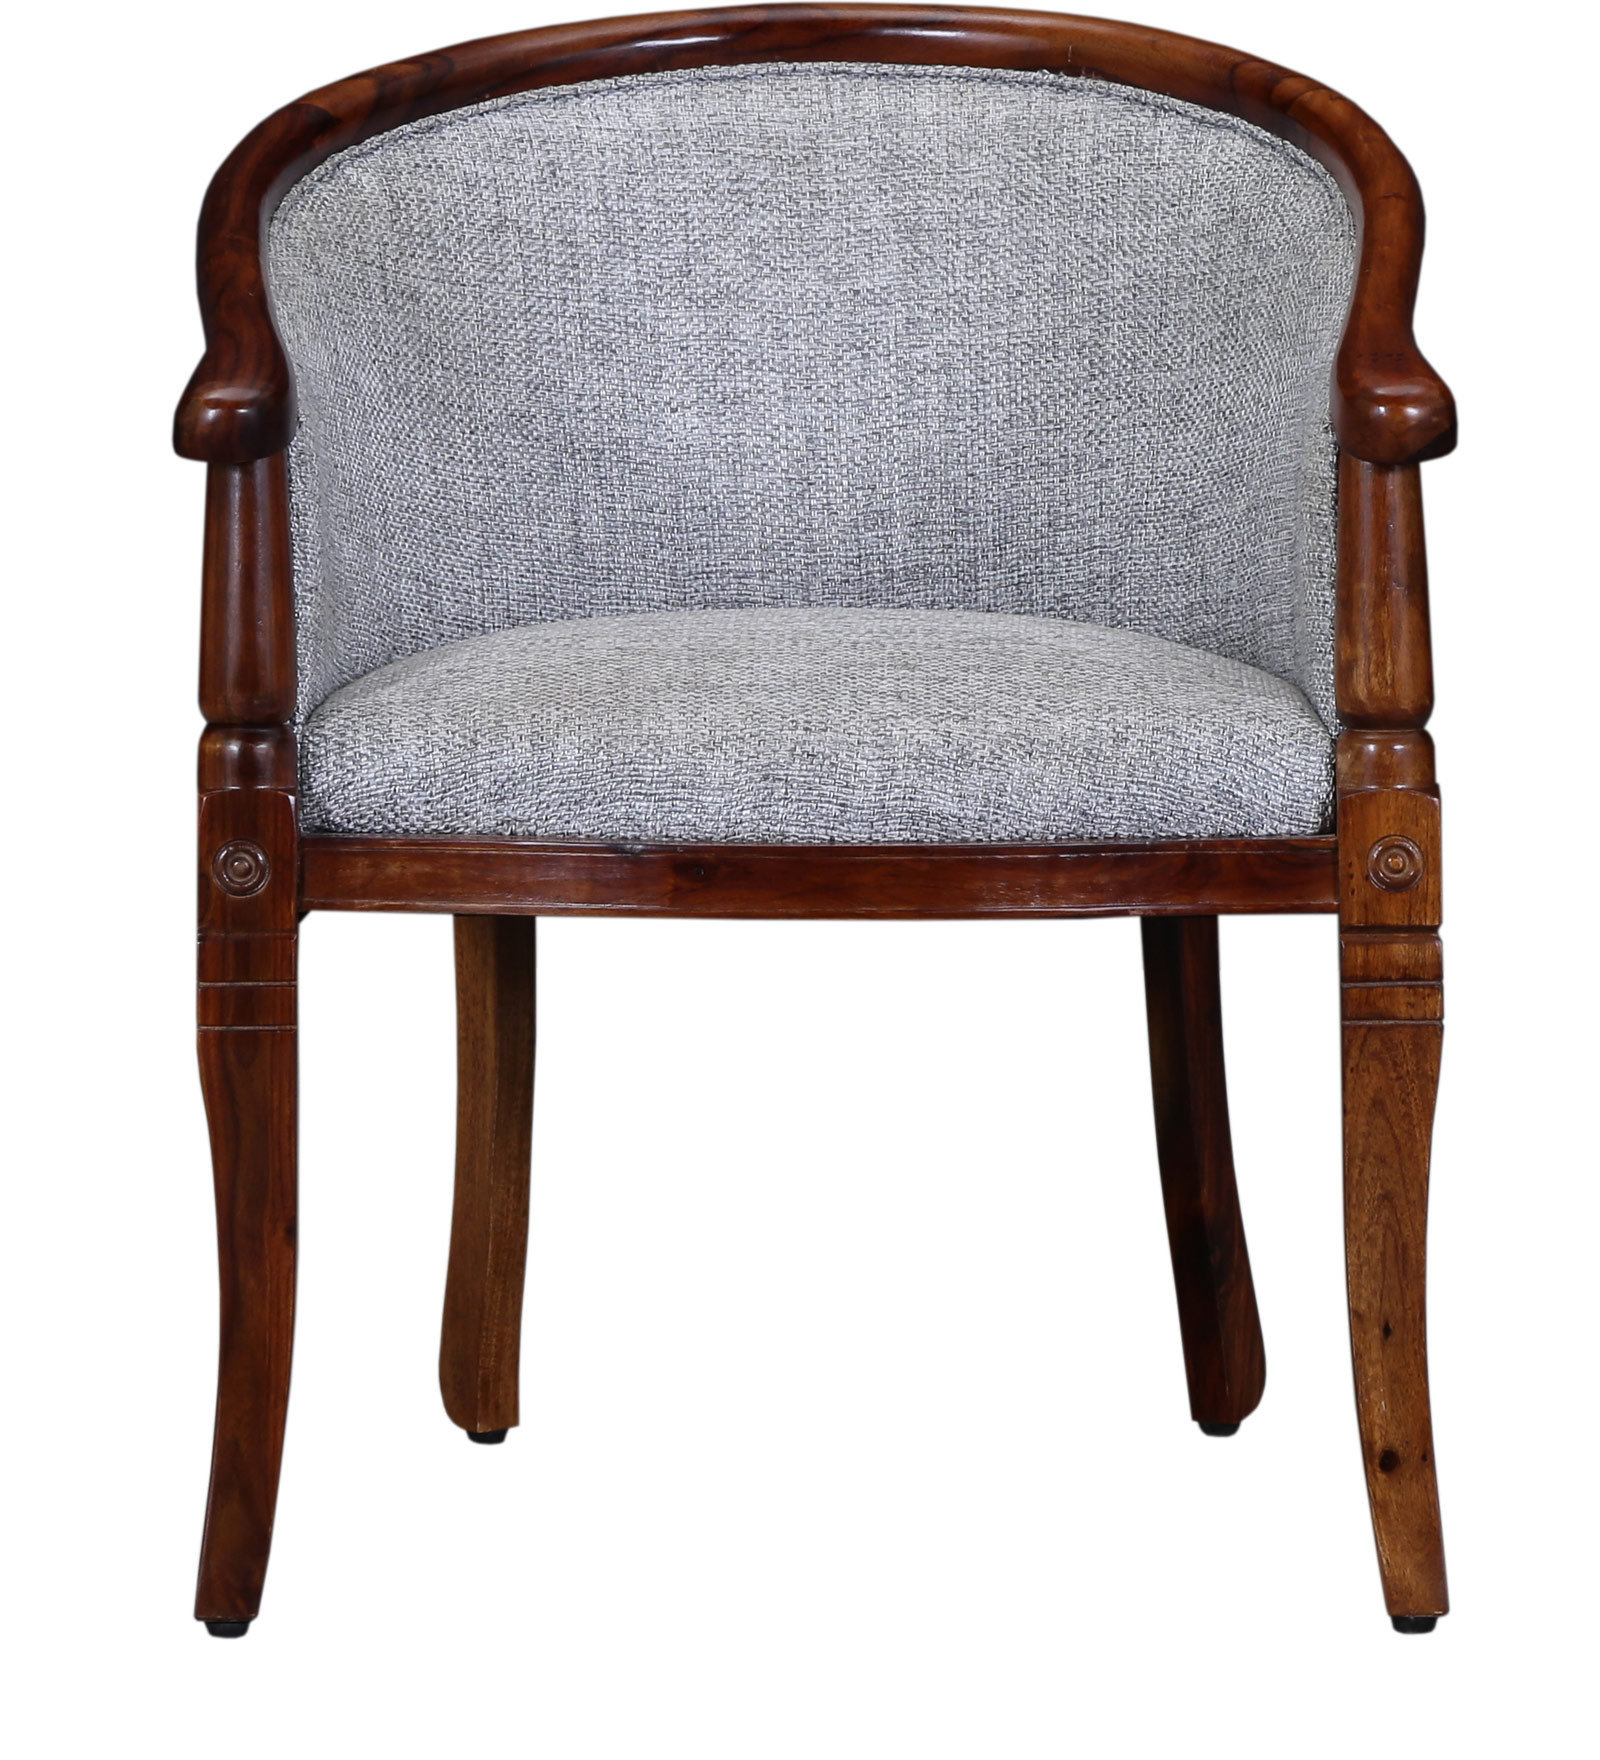Stalley Arm Chair in Grey Color with Honey Oak Finish by Amberville: (123, 32, 1497, 1657)
